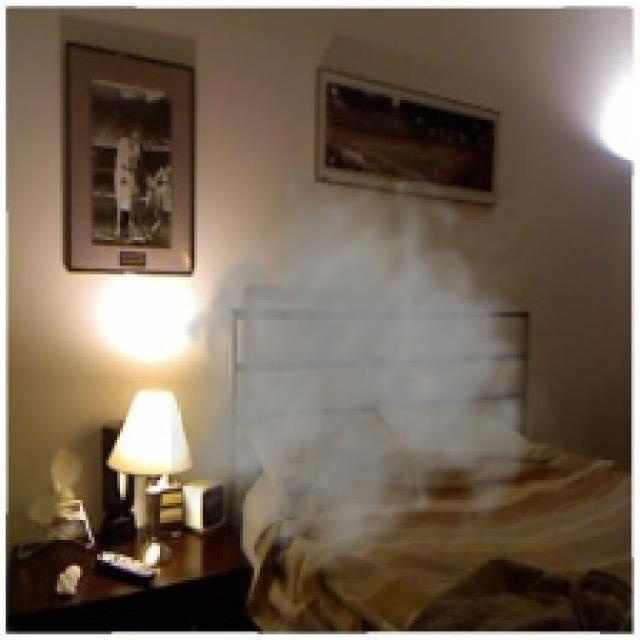Smoke: (171, 163, 566, 580)
